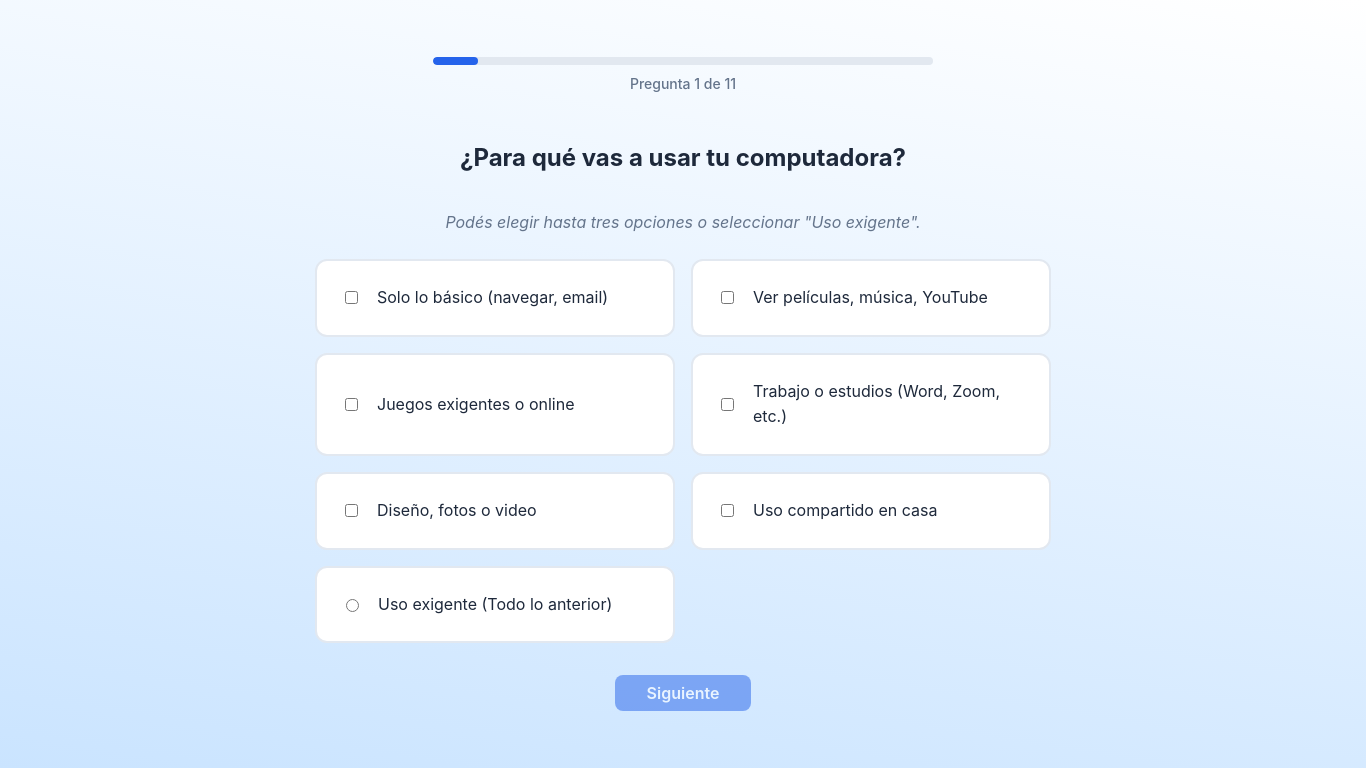
Test: Recommendation — Quiz flow › advances to next question on click
Step 1. Click the checkbox labelled "Solo lo básico (navegar, email)" → point(352, 298), box [345, 292, 358, 304]
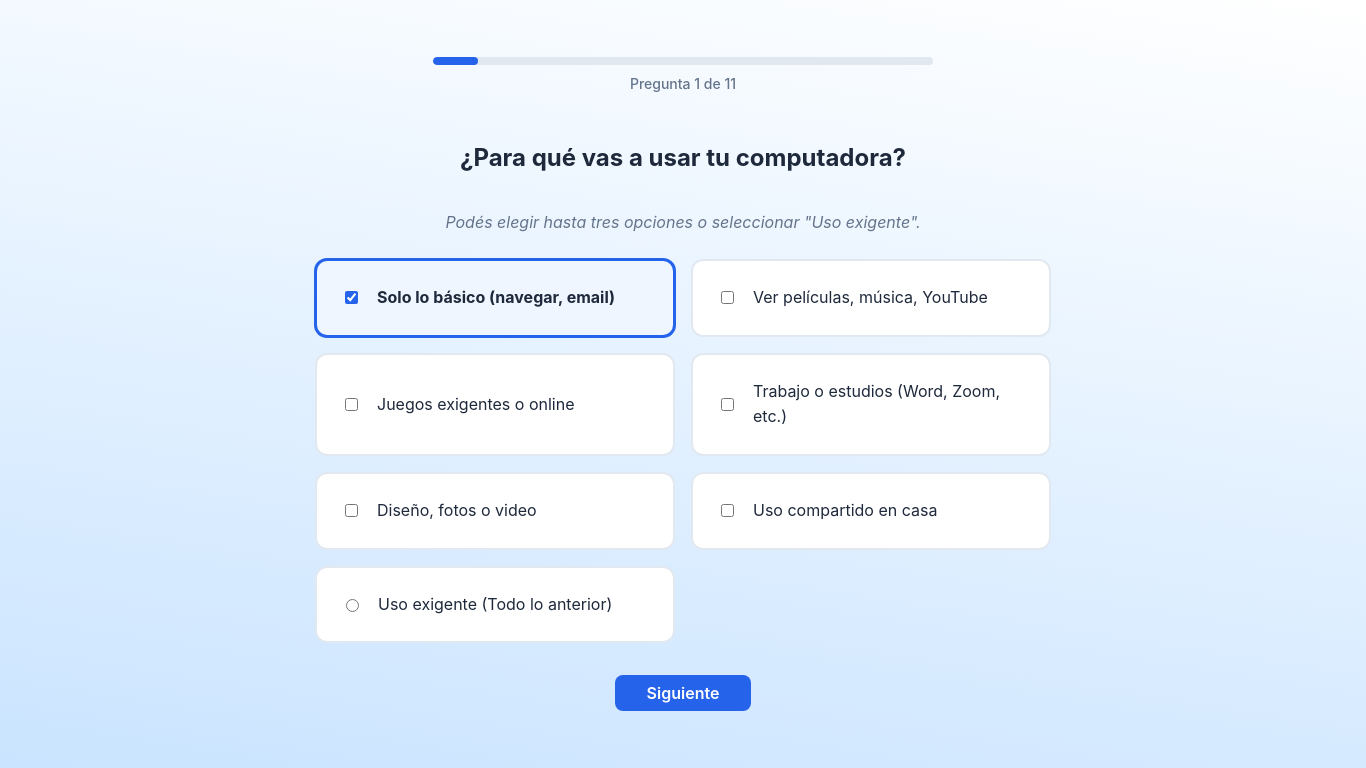
Step 2. Click the button "Siguiente" → point(683, 693), box [615, 675, 751, 711]
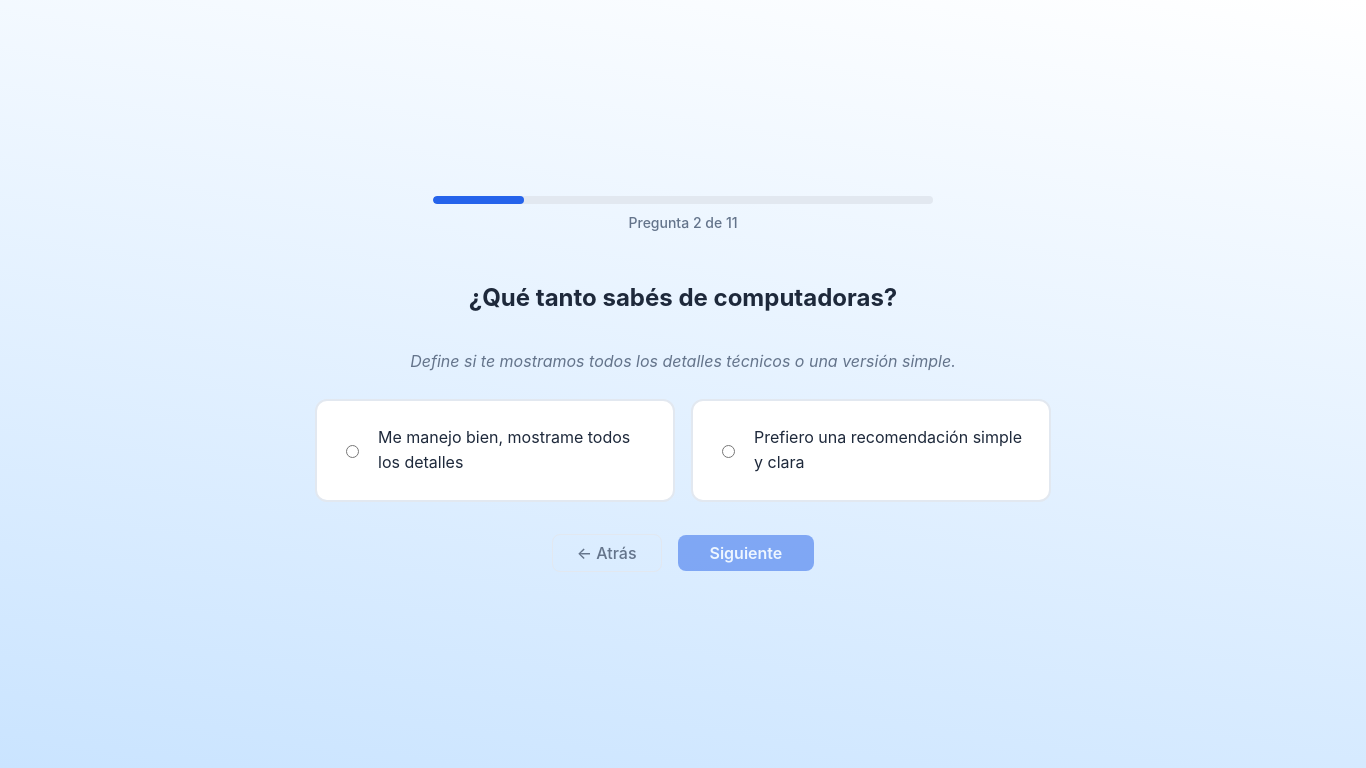
Check: the heading "¿Para qué vas a usar tu computadora?" no longer shows "¿Para qué vas a usar tu computadora?"
